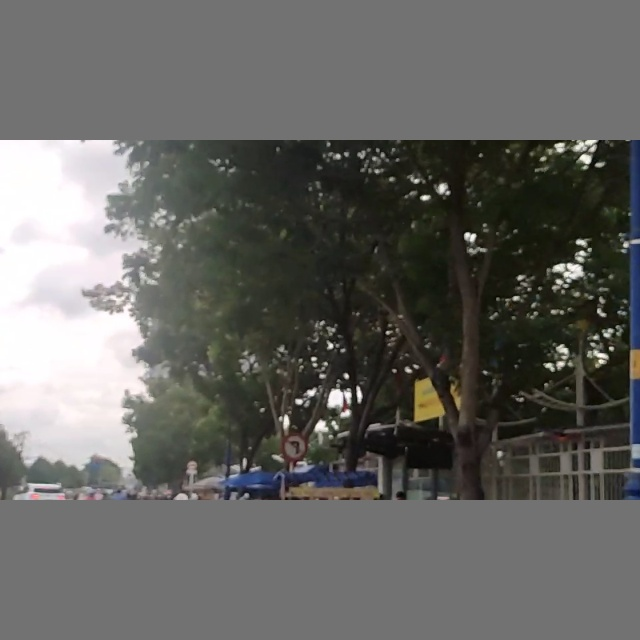P.123a: (284, 433, 307, 457)
